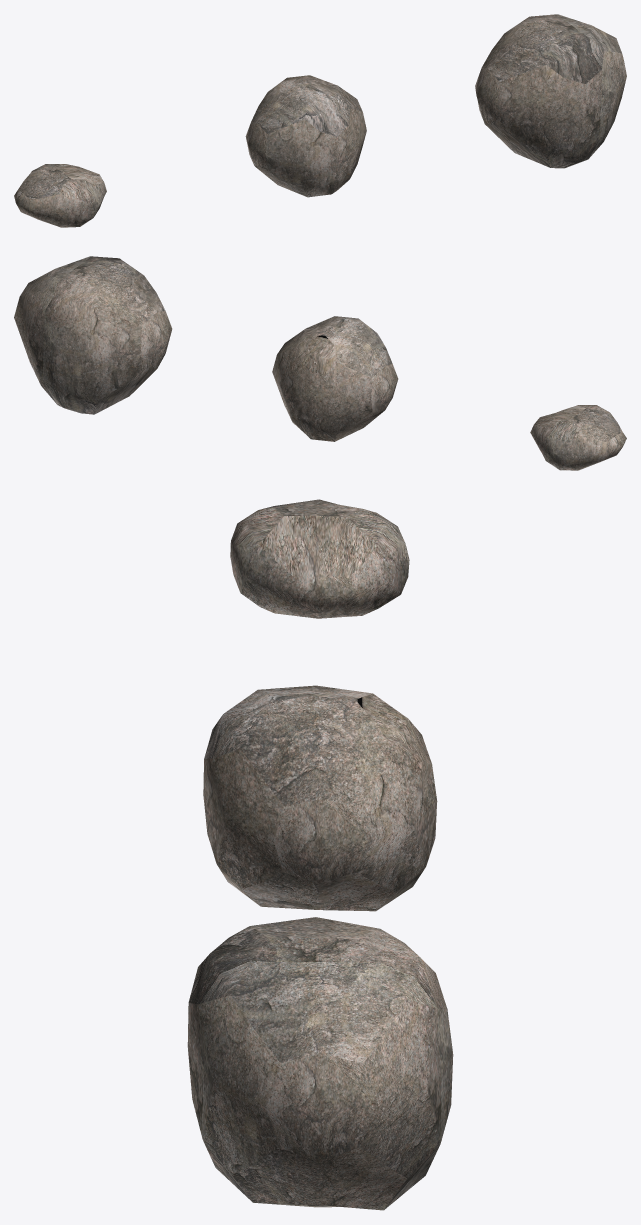
Rendered from Rocks.FBX.
3 renders of one model, top to bottom at view 1: azimuth 30°, elevation 25°; view 2: azimuth 150°, elevation 25°; view 3: azimuth 270°, elevation 25°, orthographic. The views are drawn at different scales.
Parts seen in each view (by area): view 1: Stone002, Stone001, Stone003; view 2: Stone002, Stone001, Stone003; view 3: Stone002, Stone001, Stone003.
Part boxes in pixels (x1,y1,x2,y2): Stone002: [475, 14, 626, 168]; Stone001: [245, 75, 366, 197]; Stone003: [14, 164, 106, 227]; Stone002: [14, 256, 172, 414]; Stone001: [272, 316, 398, 441]; Stone003: [530, 405, 626, 470]; Stone002: [187, 917, 453, 1210]; Stone001: [203, 685, 437, 911]; Stone003: [230, 499, 409, 618].
Size of the model in its own units: 4.72 by 1.04 by 0.9022.
1 material, 1 textured.
